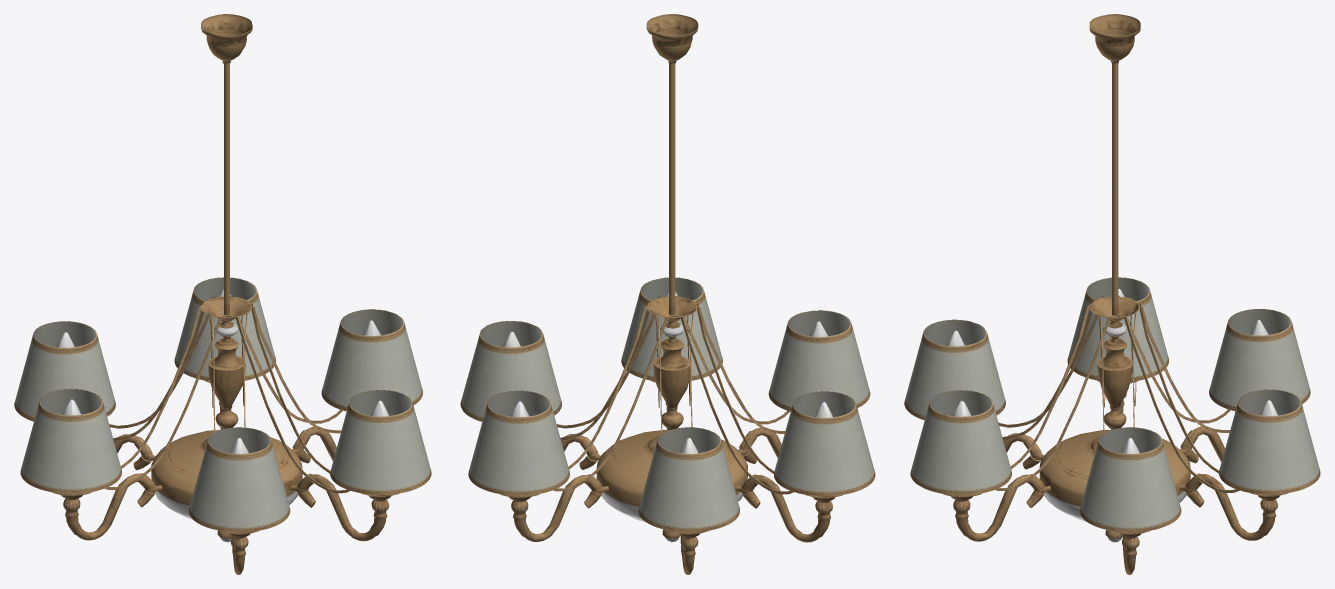
File: Chandelier_02.glb
The picture shows the model from 3 angles, left to right: view 1: azimuth 30°, elevation 25°; view 2: azimuth 150°, elevation 25°; view 3: azimuth 270°, elevation 25°; orthographic projection.
Visible parts, largest first — view 1: Chandelier_02; view 2: Chandelier_02; view 3: Chandelier_02.
Boxes of the visible parts, x1,y1,x2,y2 form: Chandelier_02: [14, 14, 431, 574]; Chandelier_02: [460, 14, 875, 574]; Chandelier_02: [904, 14, 1320, 574].
Size of the model in its own units: 0.679 by 0.8481 by 0.619.
Materials: 2 (1 with a texture image).
